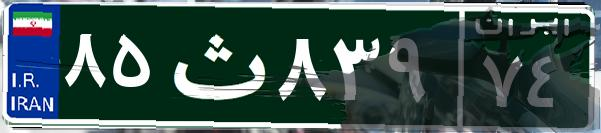3: (330, 28, 385, 110)
4: (525, 38, 570, 115)
5: (110, 28, 158, 105)
7: (475, 38, 525, 113)
8: (273, 28, 330, 110), (57, 26, 110, 107)
9: (385, 28, 445, 110)
ث: (158, 15, 273, 115)
